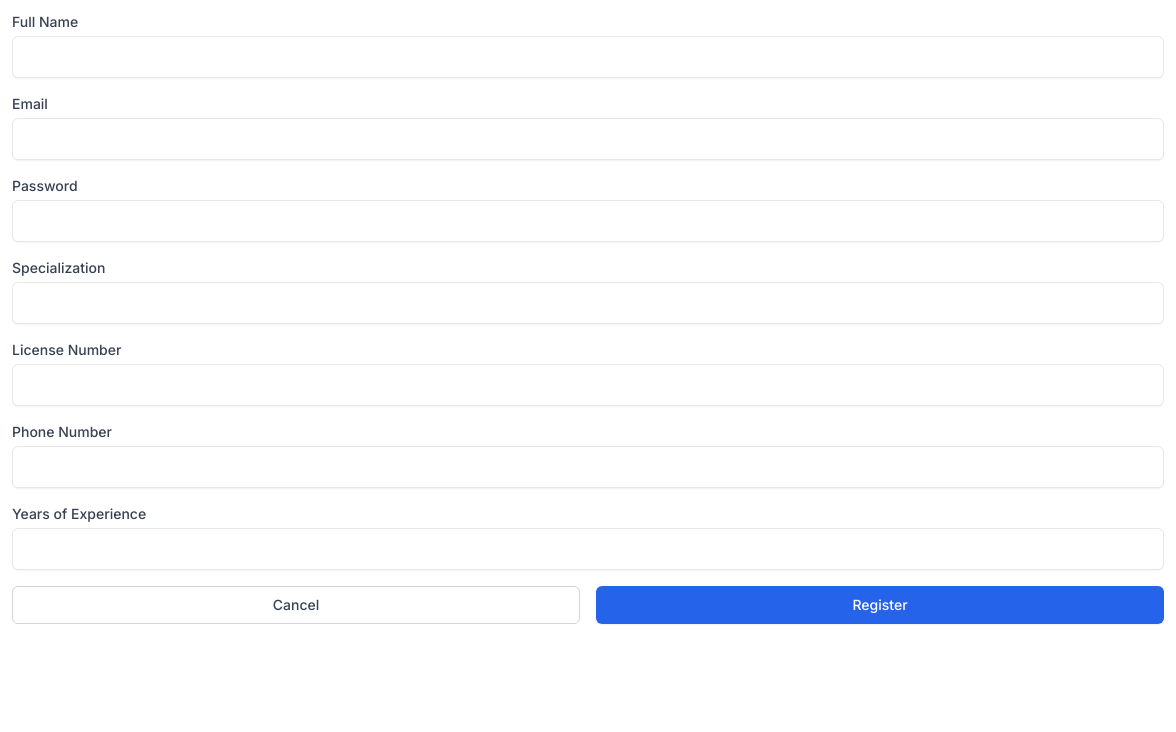
DoctorRegistrationForm › shows loading state during registration
Note: Fill in form data
Type "John Doe" into the field labelled "Full Name". click: (588, 57)
box: [12,36,1164,78]
Type "john@example.com" into the field labelled "Email". click: (588, 139)
box: [12,118,1164,160]
Type "password123" into the password field labelled "Password". click: (588, 221)
box: [12,200,1164,242]
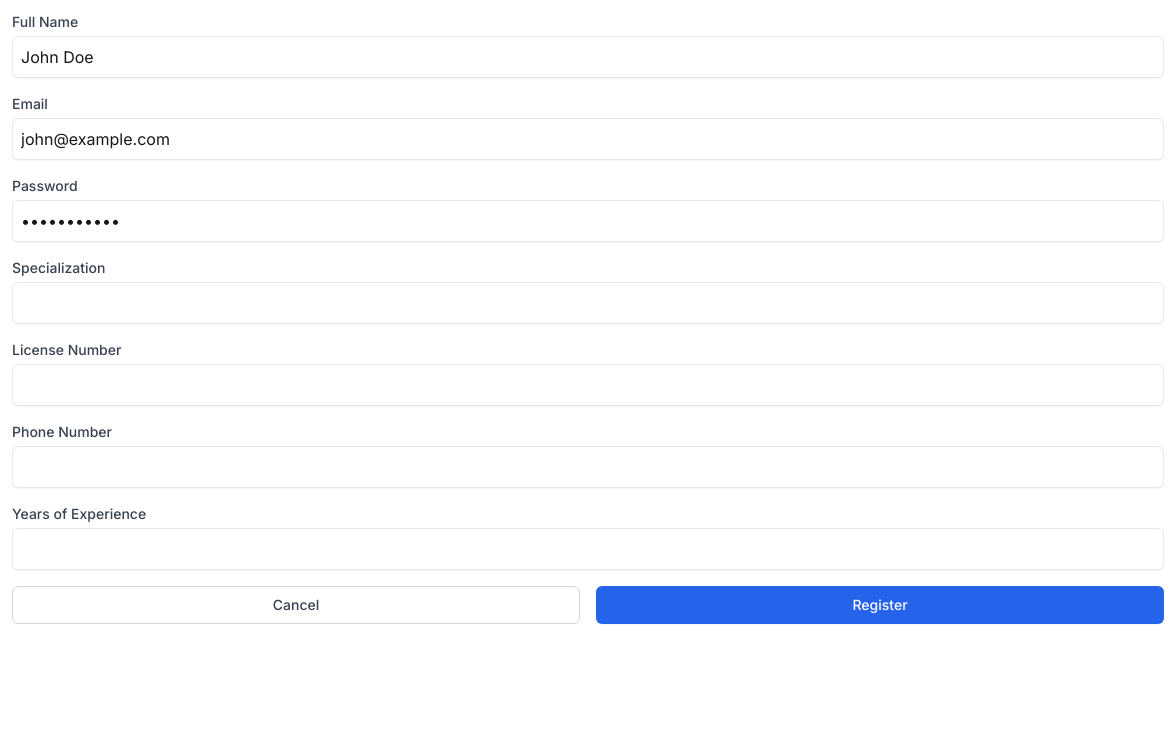
Type "Cardiology" into the field labelled "Specialization". click: (588, 303)
box: [12,282,1164,324]
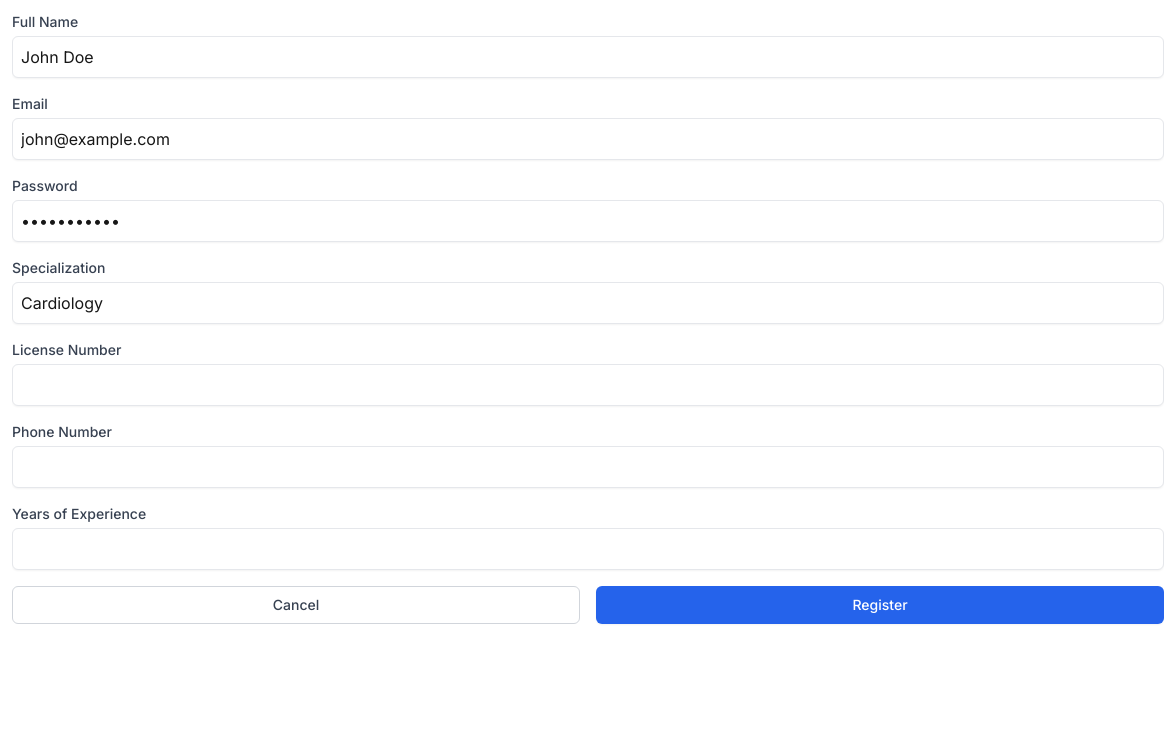
Type "LIC123" into the field labelled "License Number". click: (588, 385)
box: [12,364,1164,406]
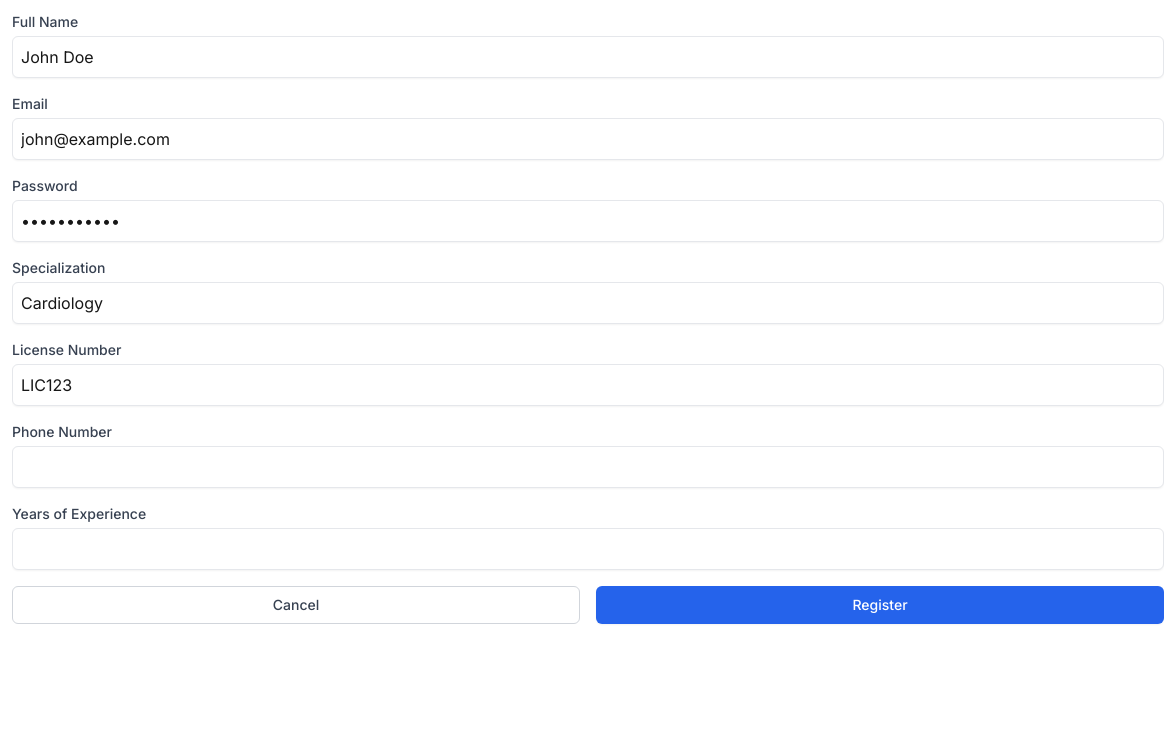
Type "1234567890" into the field labelled "Phone Number". click: (588, 467)
box: [12,446,1164,488]
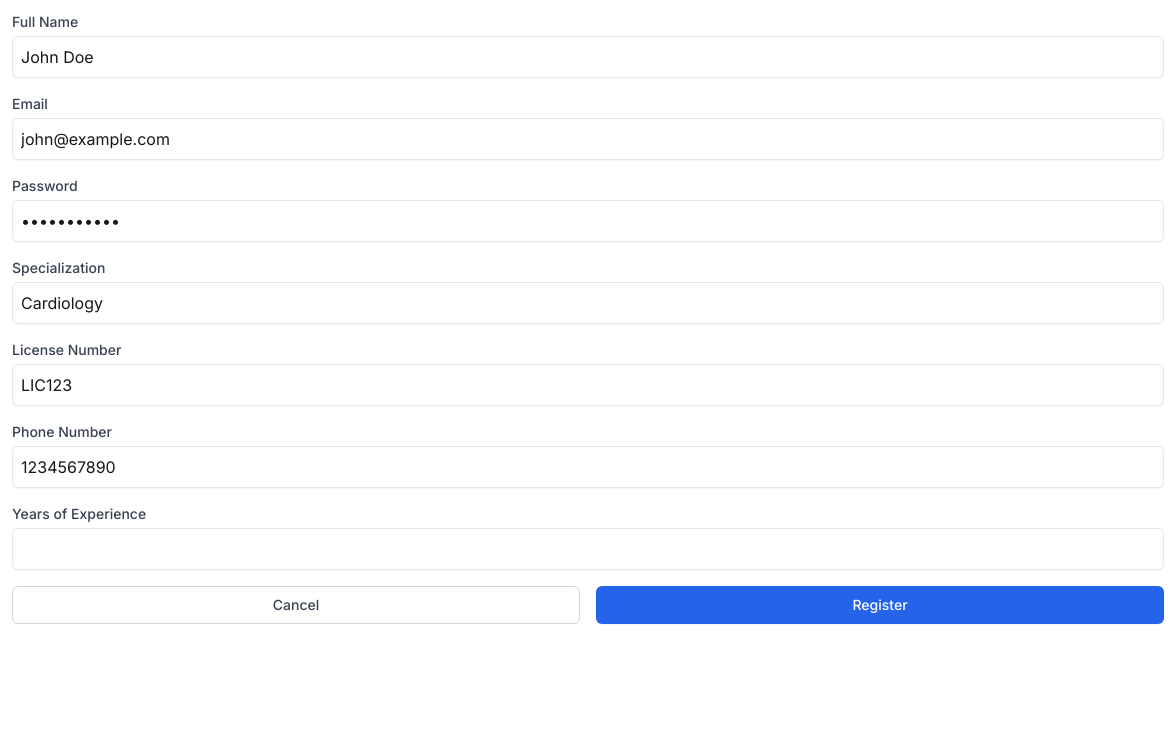
Type "5" into the number field labelled "Years of Experience". click: (588, 549)
box: [12,528,1164,570]
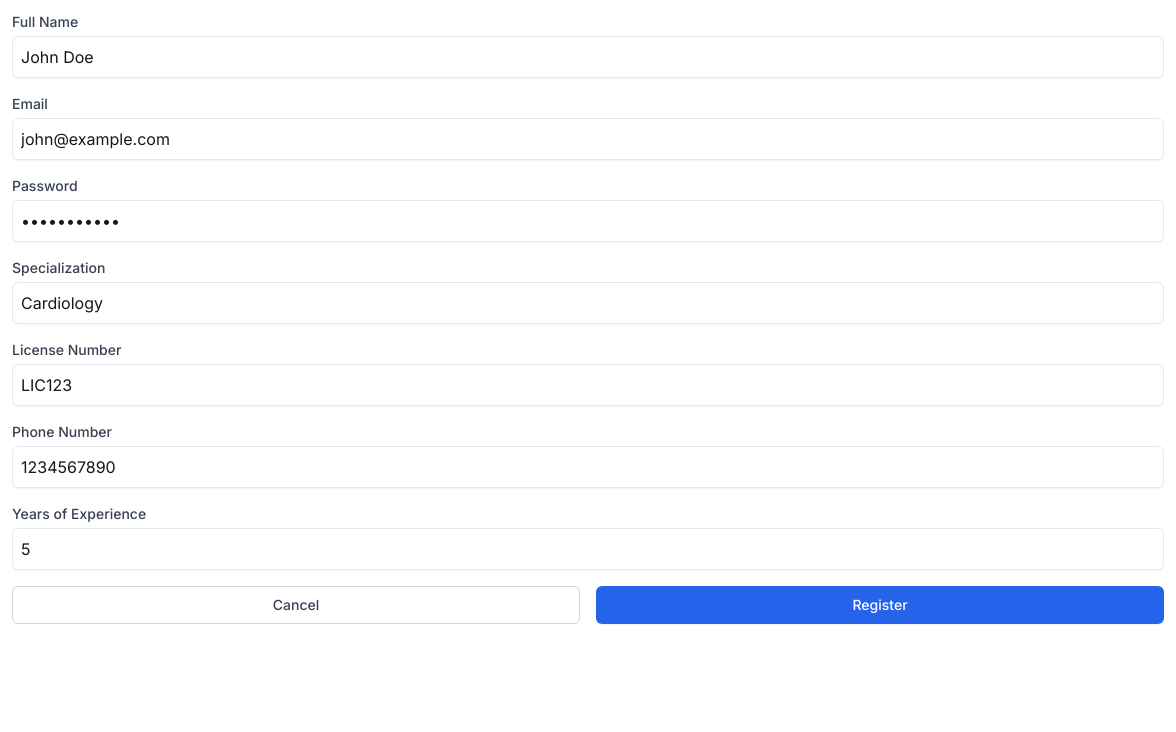
Note: Submit form
Click the button "Register". click: (880, 605)
box: [596,586,1164,624]
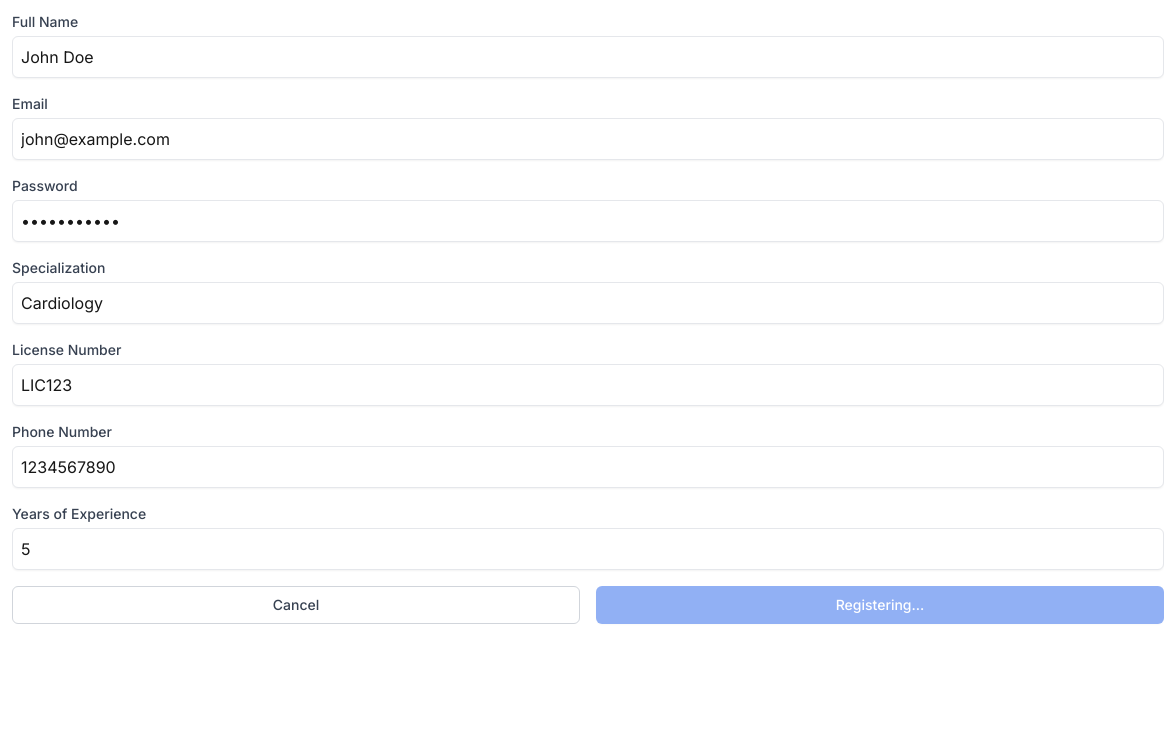
Expected: the button "Registering..." is shown, [596,586,1164,624]
